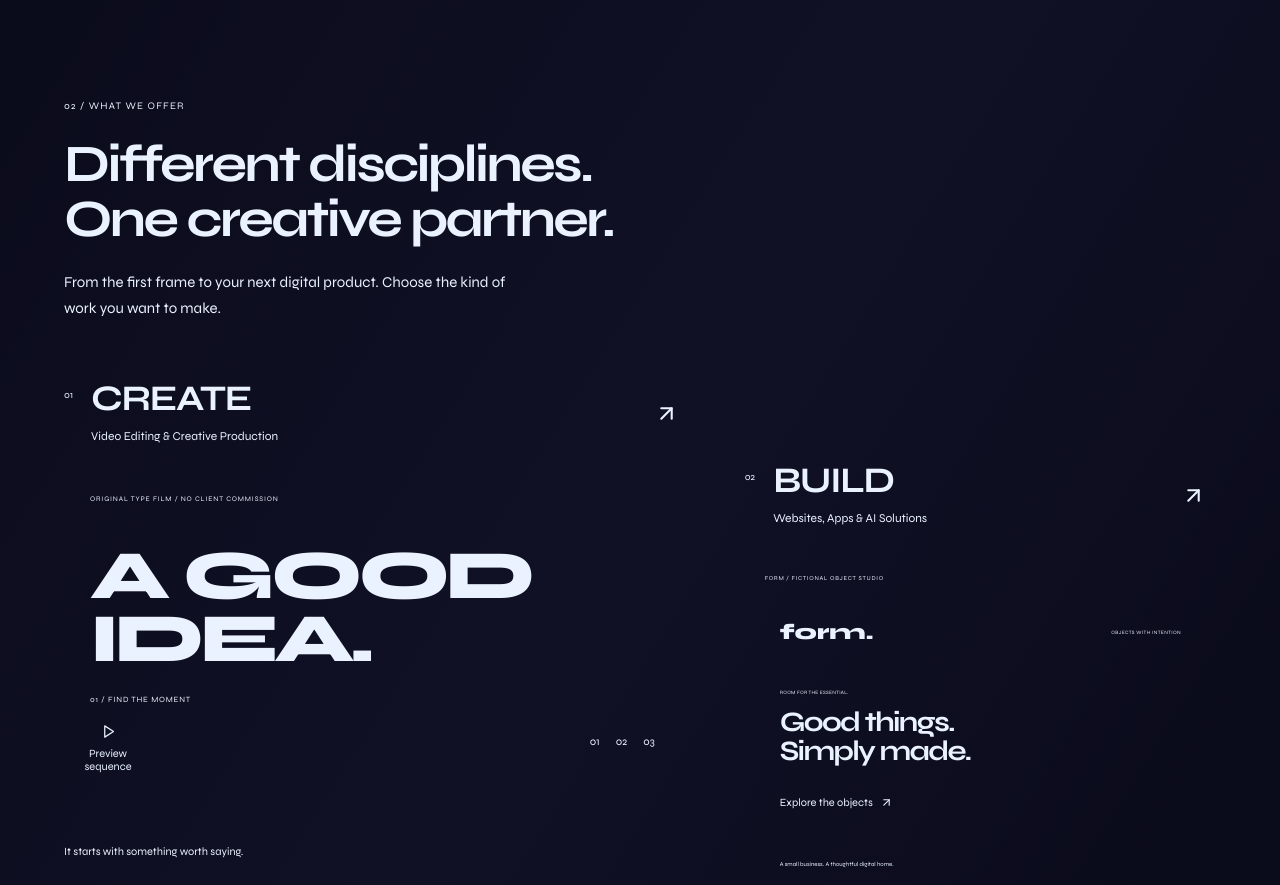
Test: V12 editorial service discovery › plays a finite original sequence and stops work when the tab is hidden
Click the button "Preview sequence" at (112, 741), box [90,719,134,763]
Wait 6500 ms
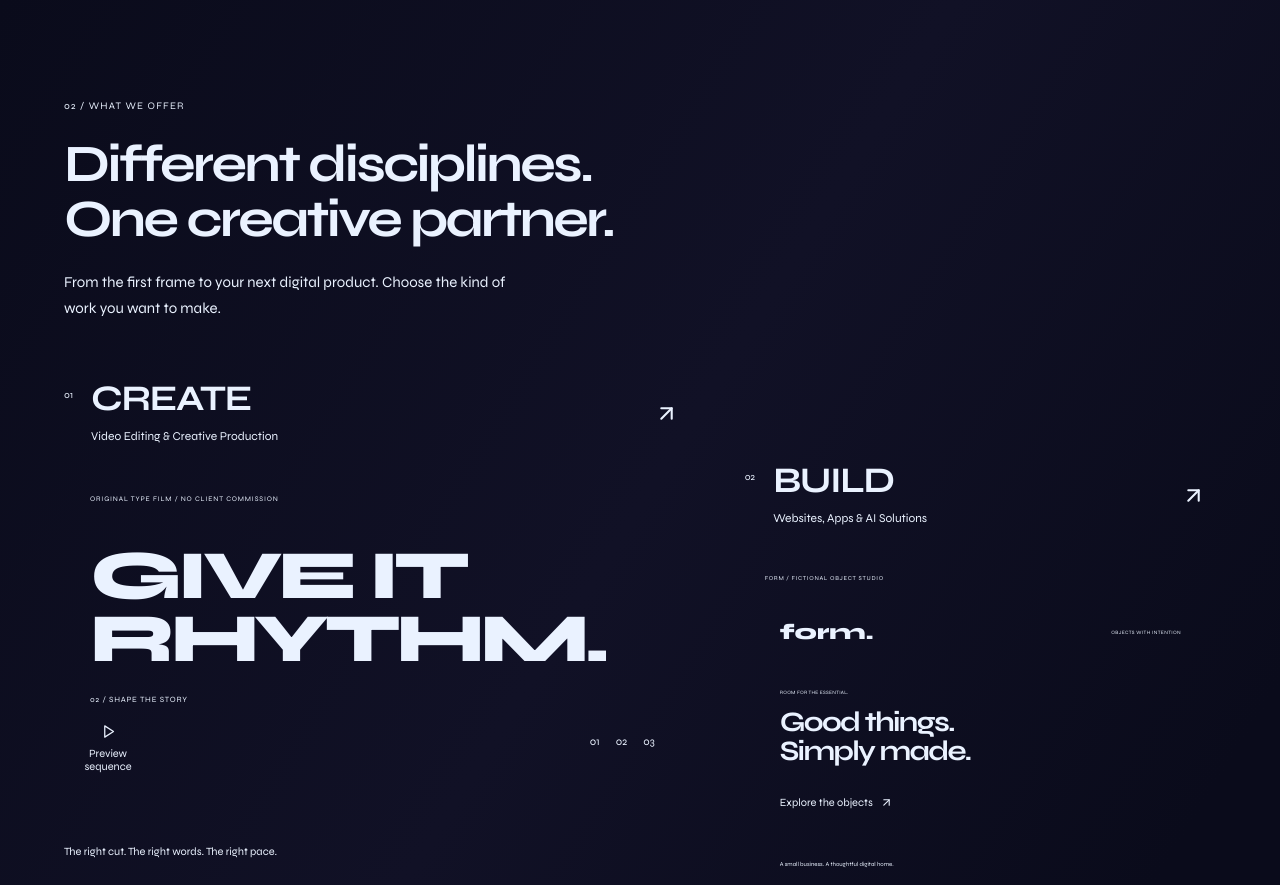
Check: the message shows "The right cut", box [64,845,277,858]
Click the button "Preview sequence" at (112, 741), box [90,719,134,763]
Wait 4500 ms
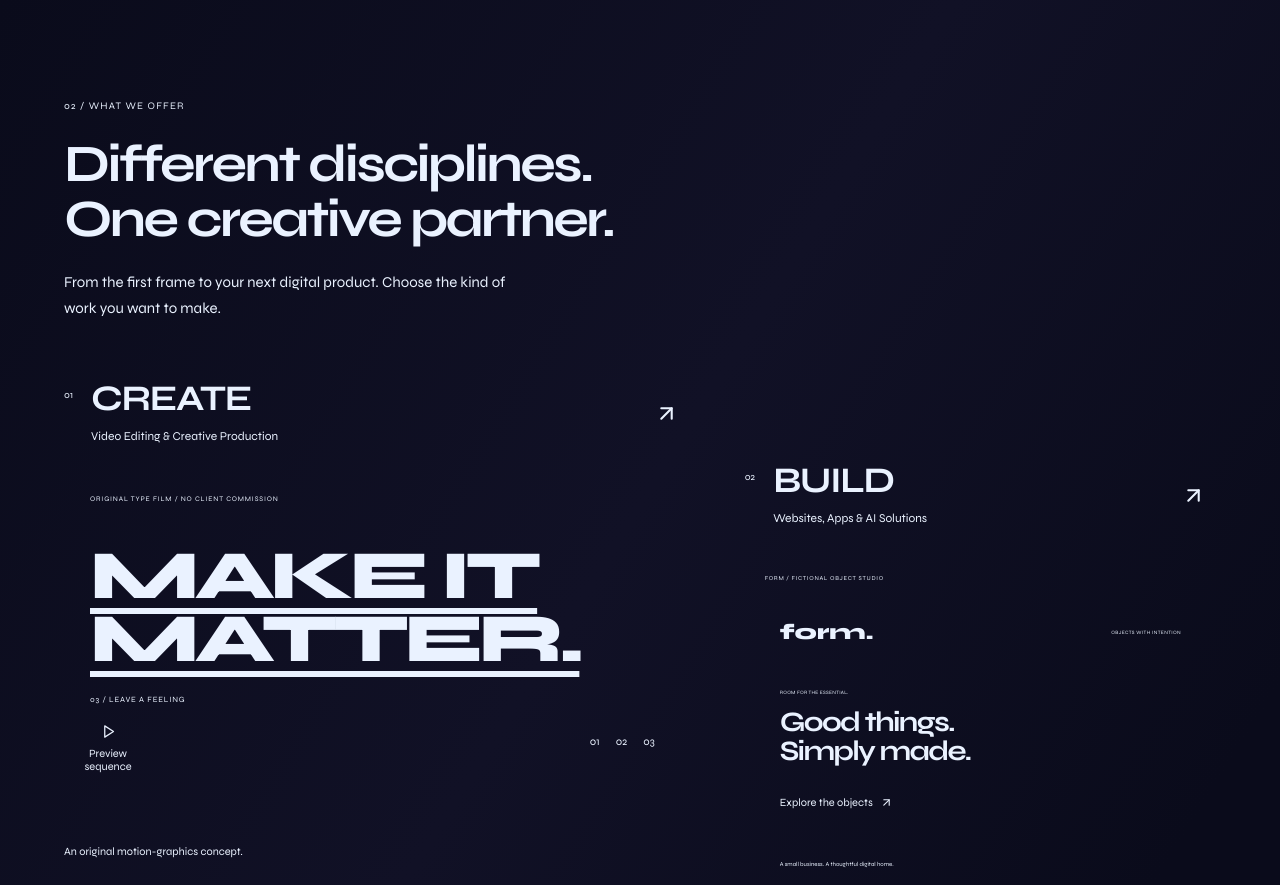
Check: the message shows "original motion-graphics concept", box [64,845,243,858]
